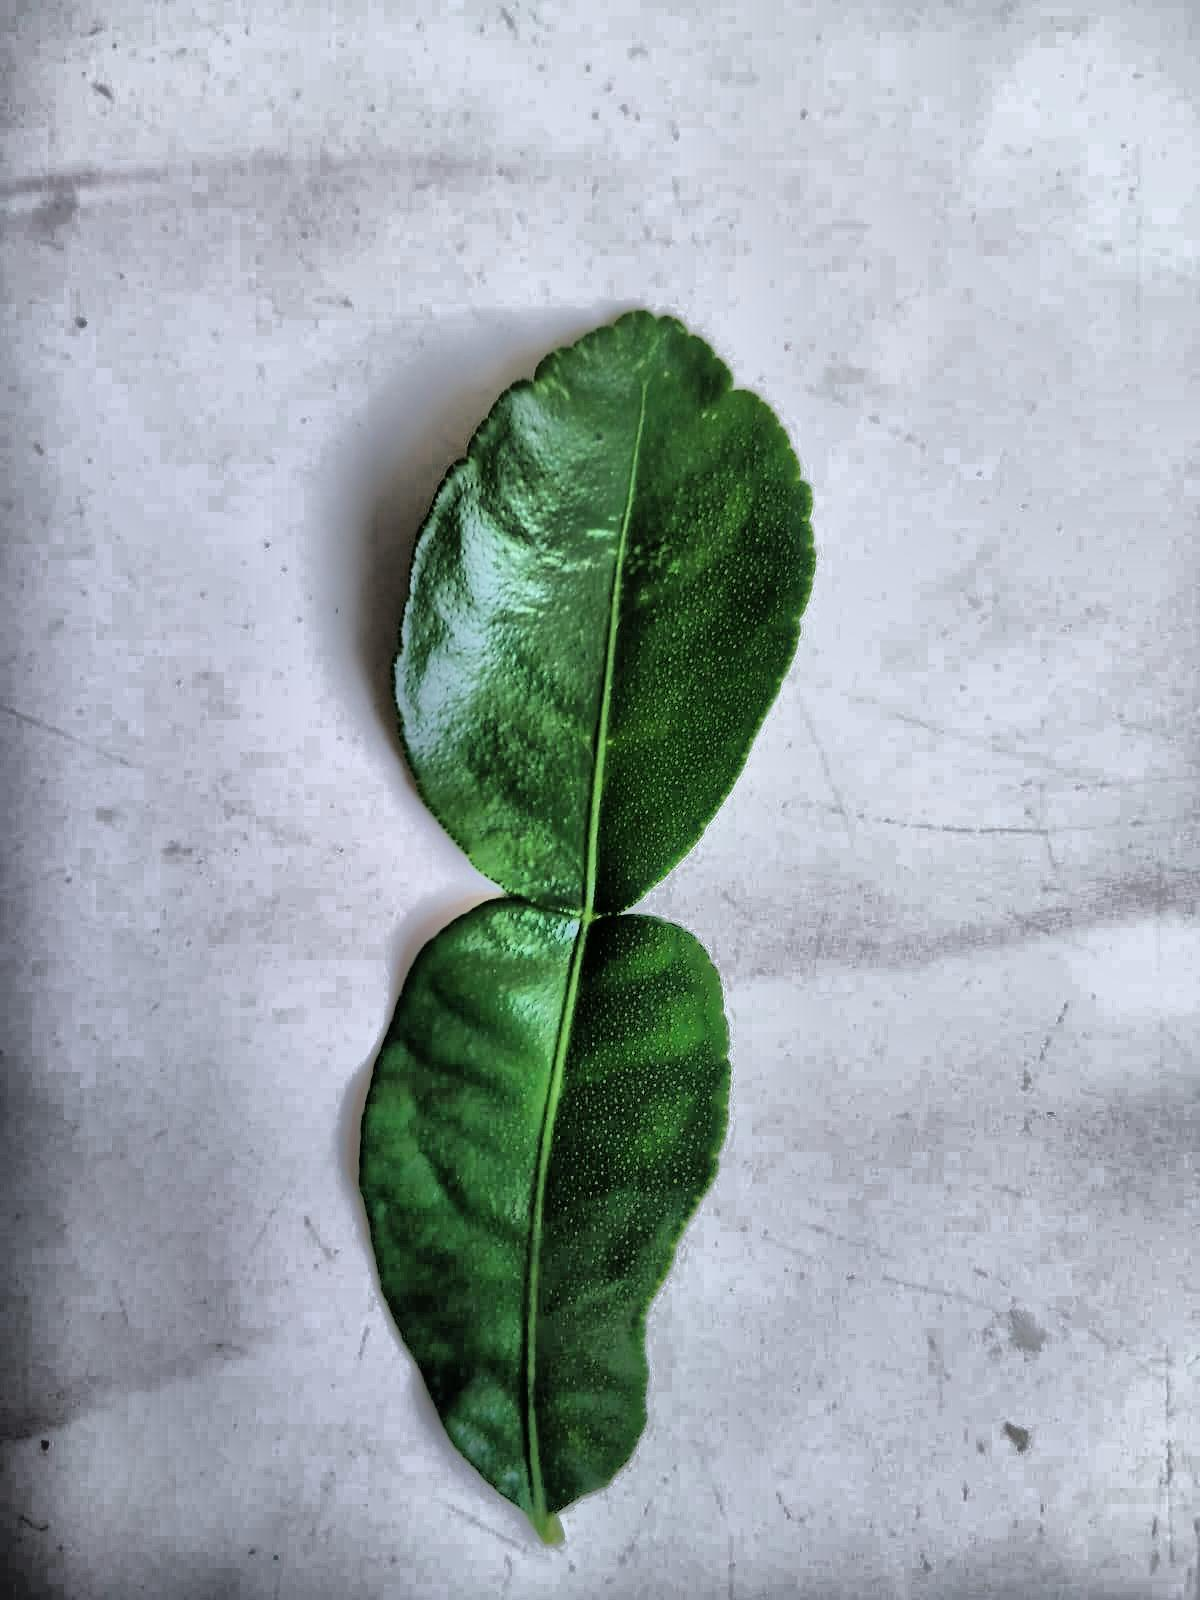daun jeruk: (361, 310, 813, 1541)
